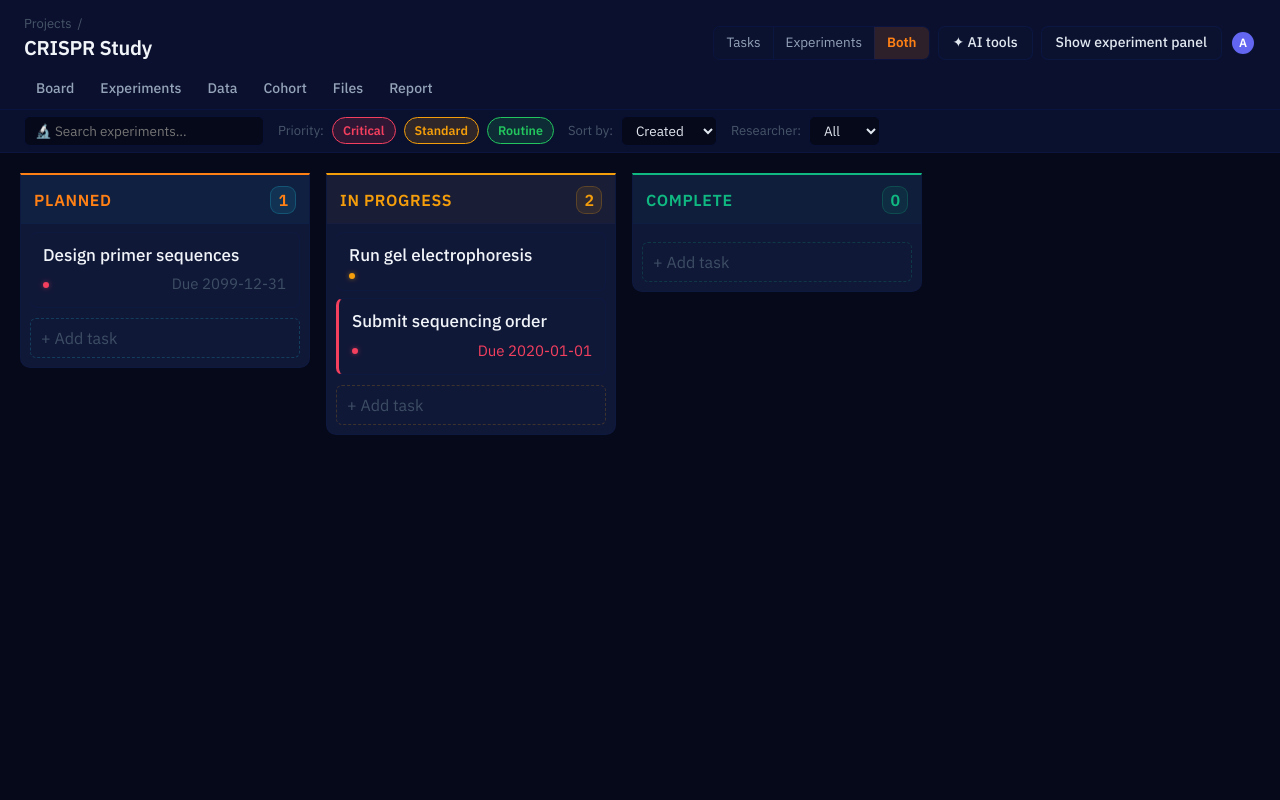
Test: Board › selecting a card renders BulkActionBar with count 1
The width and height of the screenshot is (1280, 800).
Expected: the text "Design primer sequences" is shown, [43,244,239,266]
Hover over the text "Design primer sequences" at (165, 270), box [30,232,300,308]
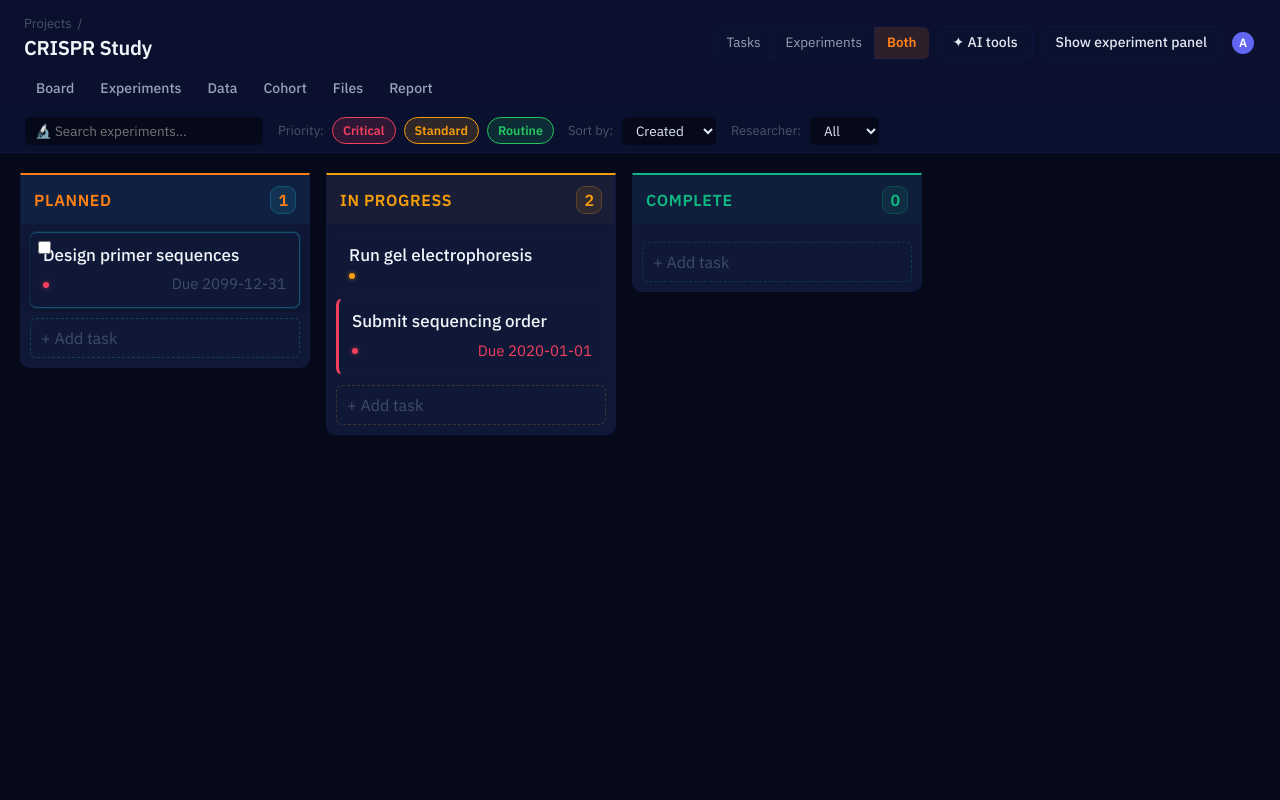
Expected: the checkbox is shown
Click the checkbox. click: click(44, 247)
box: [38,240,51,254]
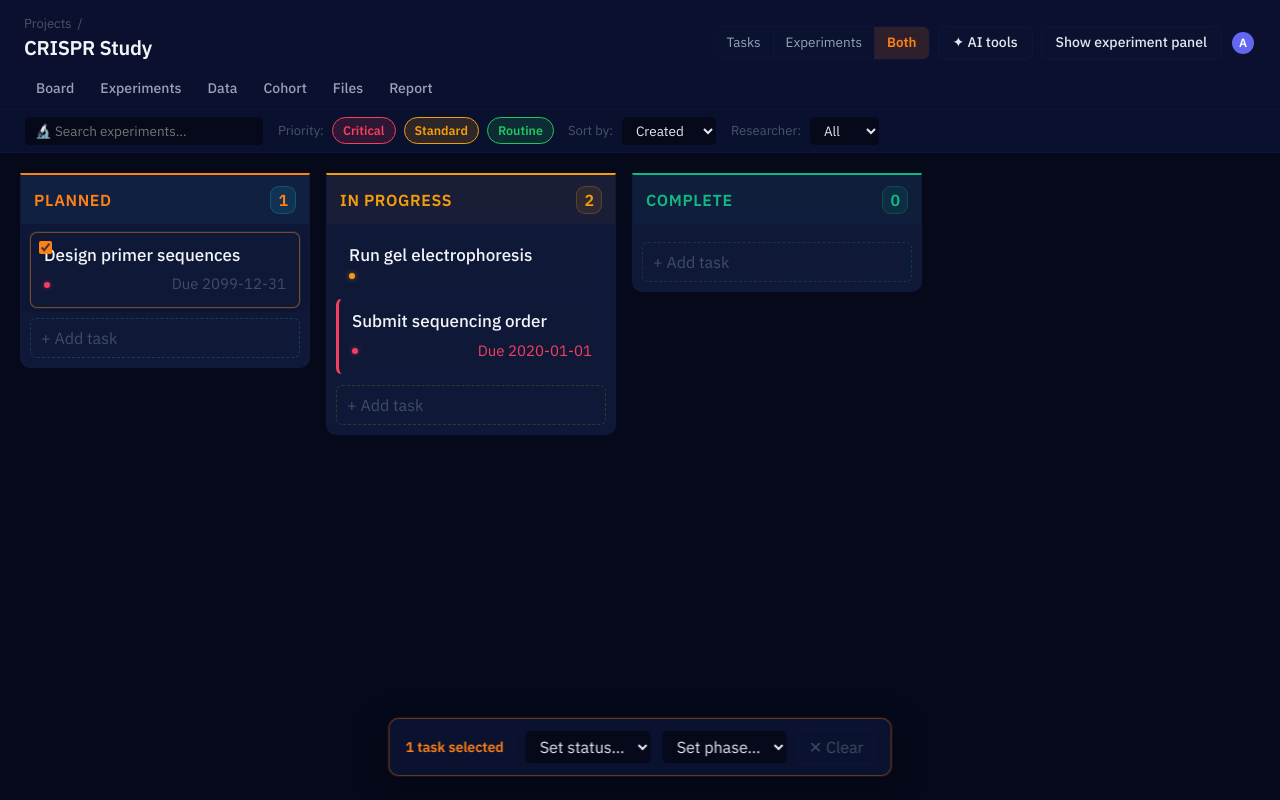
Expected: the text "1 task selected" is shown, [406,736,504,758]
